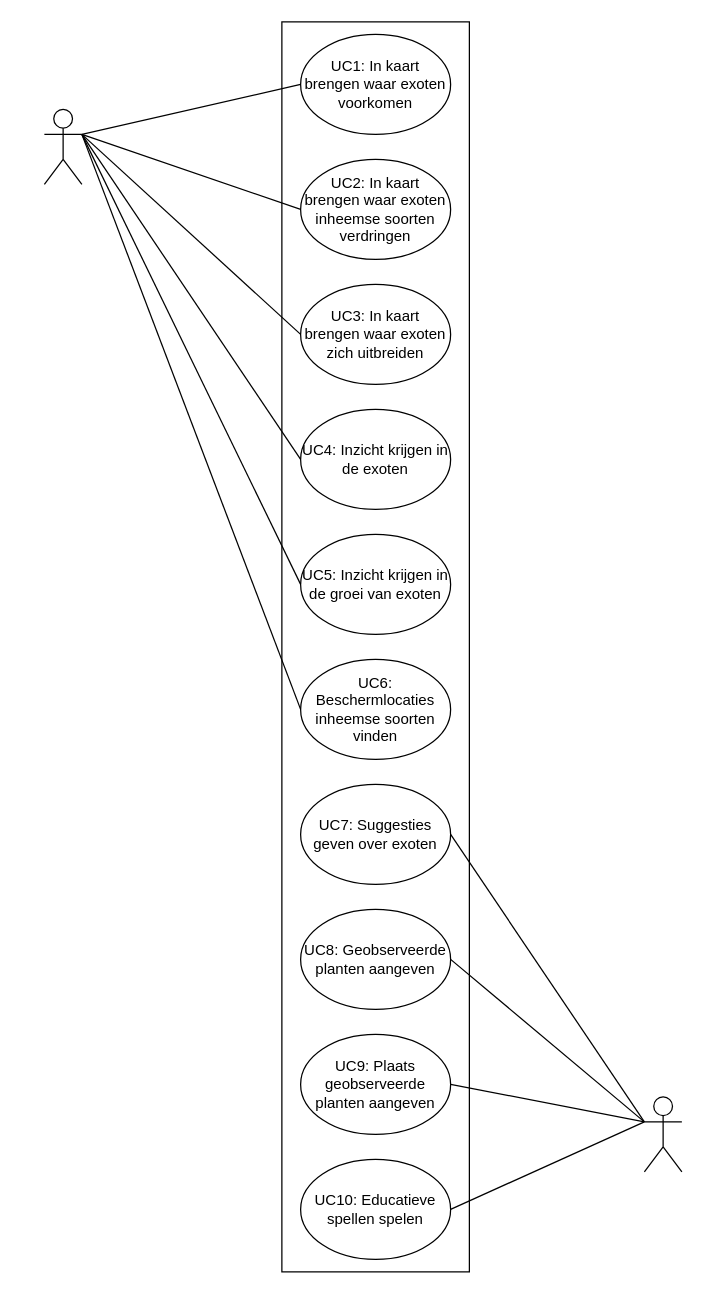
This 704x1294 diagram has some shape labels left out. The centre of each missing label's shape, as x and y in pixels:
Gast: point 662,1134
Medewerker: point 62,146
